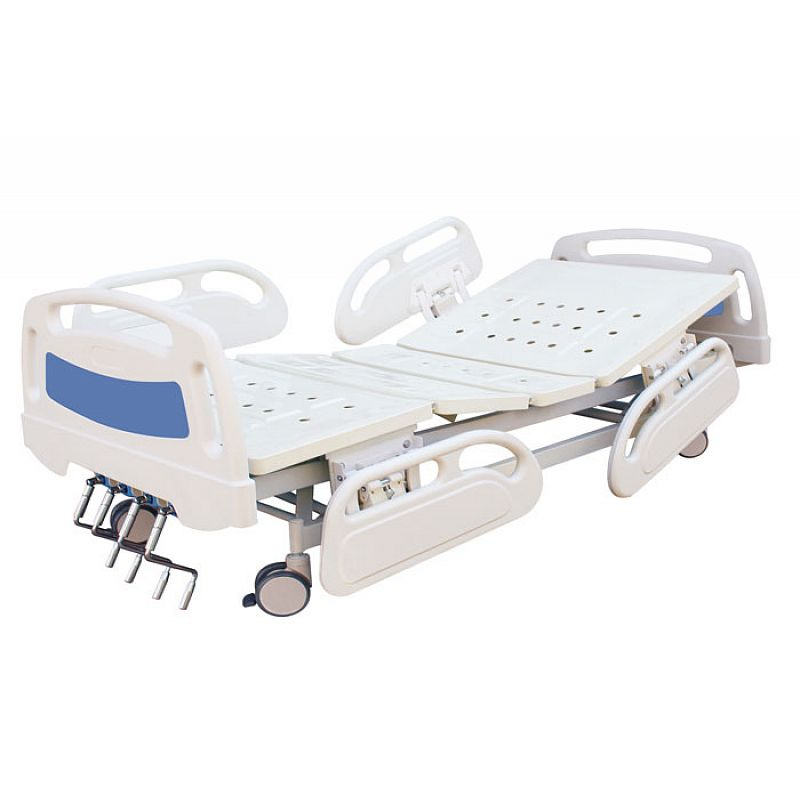trolley_bed: (17, 210, 777, 623)
